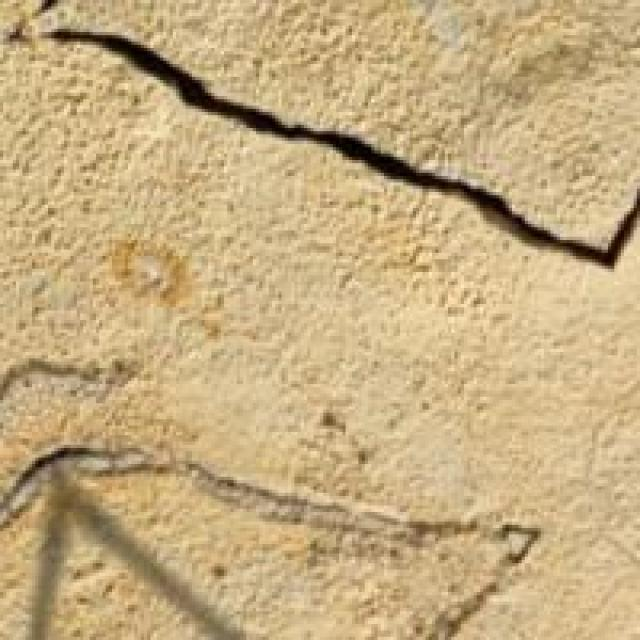crack: (0, 0, 637, 323)
